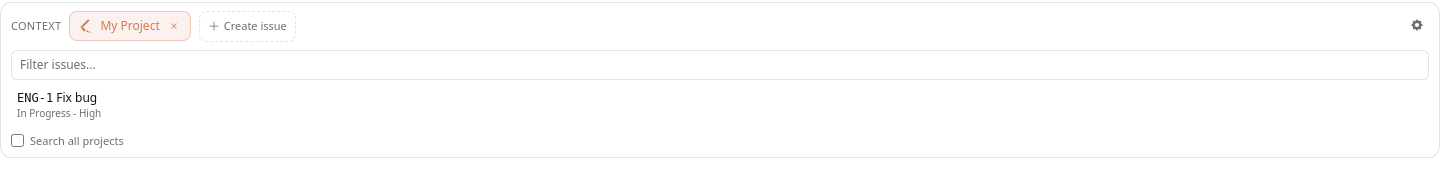
it: LinearSection › toggles search all projects and shows search prompt
The width and height of the screenshot is (1440, 175).
Note: Toggle search all projects
Click the text "Search all projects". click: (77, 141)
box: [30,132,124,149]
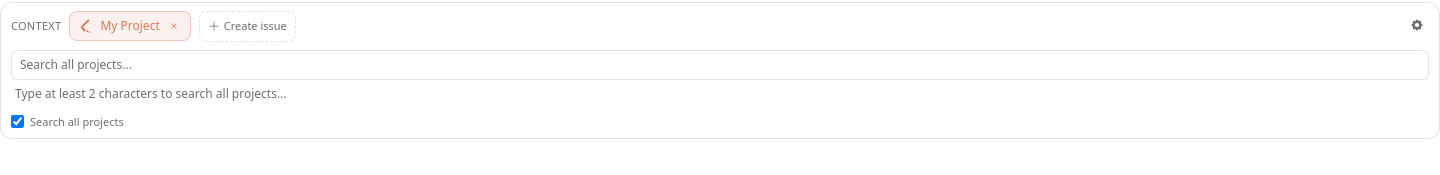
Check: the text "Type at least 2 characters to search all projects..." is shown, box [15,84,287,102]
